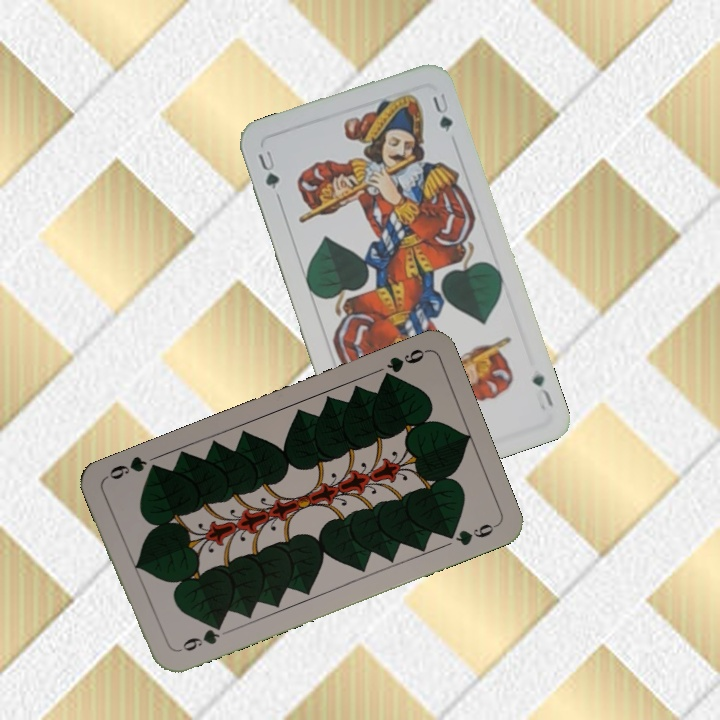G9: (377, 344, 429, 385), (171, 619, 225, 655)
GU: (253, 145, 282, 192), (528, 369, 556, 414)
